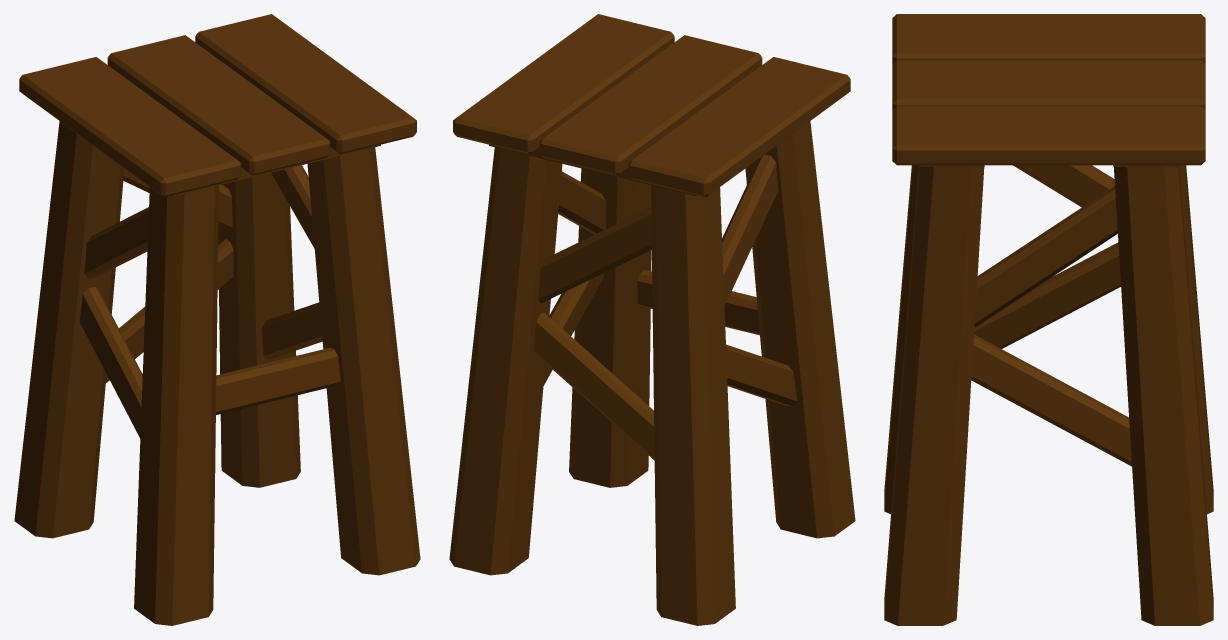
Rendered from GoblinTower.fbx.
The picture shows the model from 3 angles, left to right: view 1: azimuth 30°, elevation 25°; view 2: azimuth 150°, elevation 25°; view 3: azimuth 270°, elevation 25°; orthographic projection. The views are drawn at different scales.
Visible parts, largest first — view 1: Cube.002; view 2: Cube.002; view 3: Cube.002.
Part boxes in pixels (box(x1,y1,x2,y2)): Cube.002: box(14, 14, 420, 625); Cube.002: box(449, 14, 855, 625); Cube.002: box(884, 14, 1213, 625).
Bounding box in the file's own units: 2.69 × 4.3 × 2.69.
